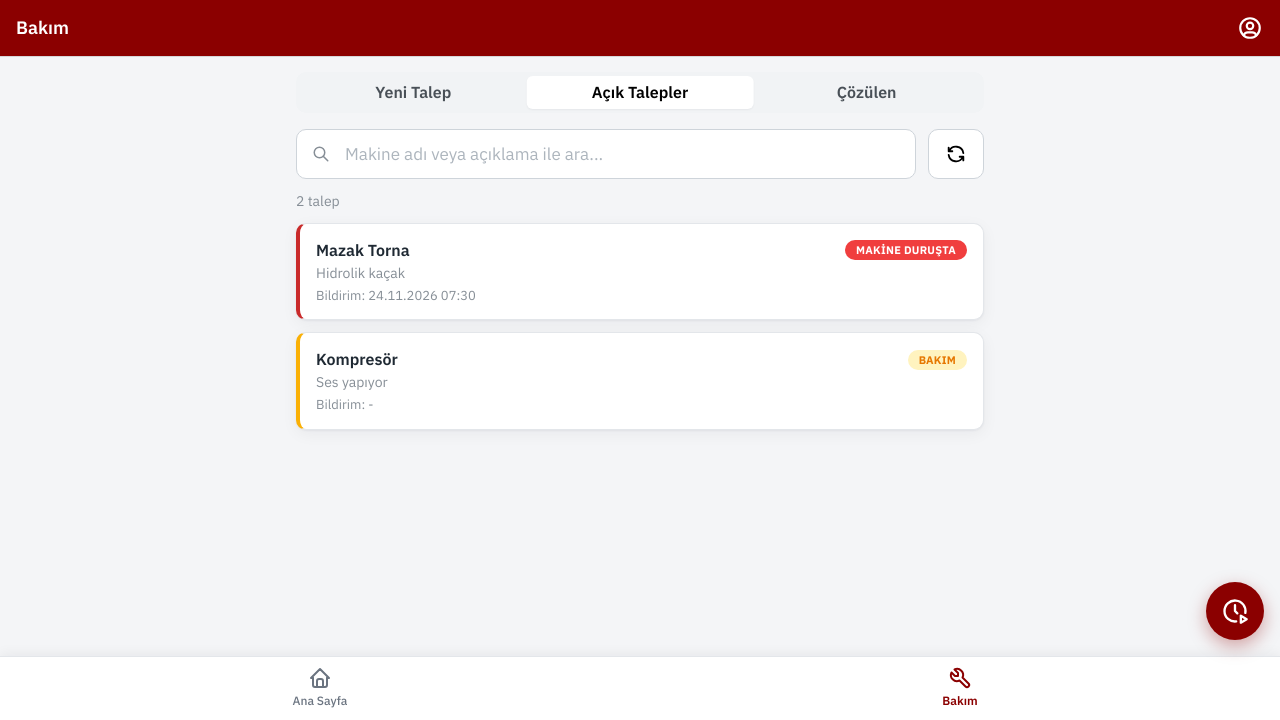
Test case: maintenance tabs › lists open faults with a search, linking to their timer page
The width and height of the screenshot is (1280, 720).
expect the link "Mazak Torna" shows "Makine duruşta": met, box [296,223,984,320]
Type "kompresör" into the field labelled "ara" at (606, 154), box [296,129,916,179]
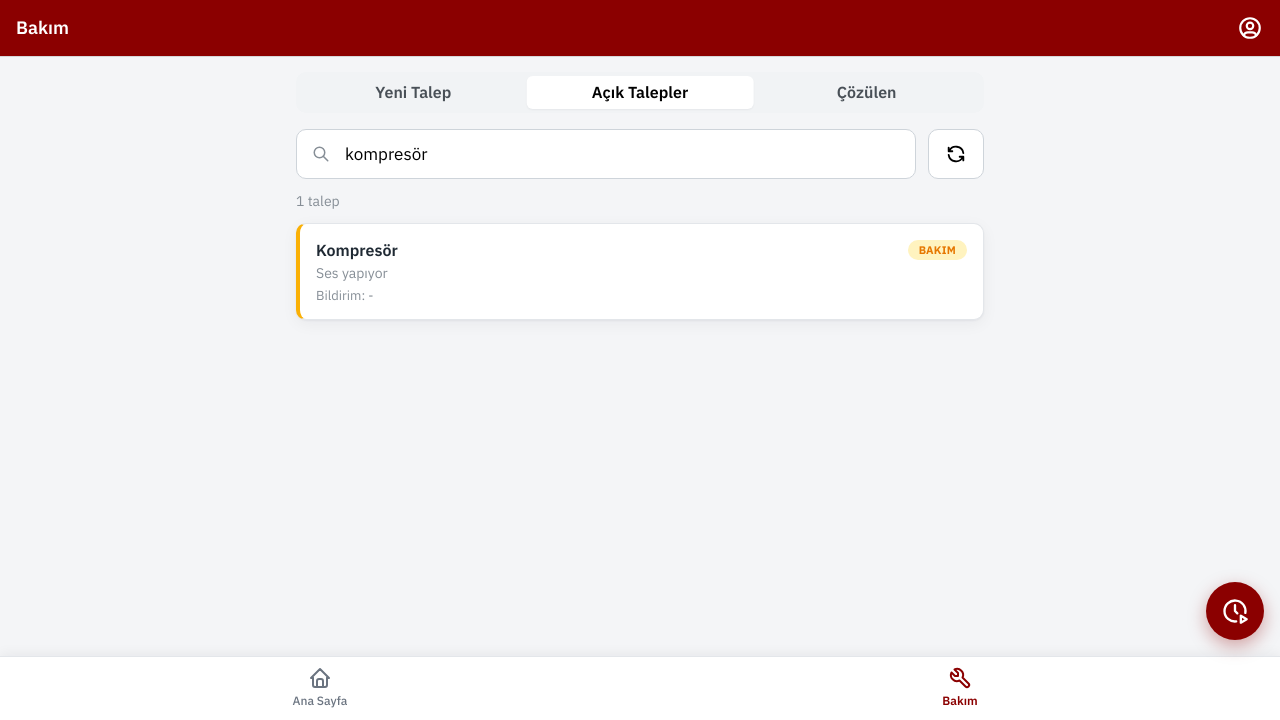
expect the text "Kompresör" is shown: met, box [316,238,398,263]
expect the link "Mazak Torna" is gone: met
